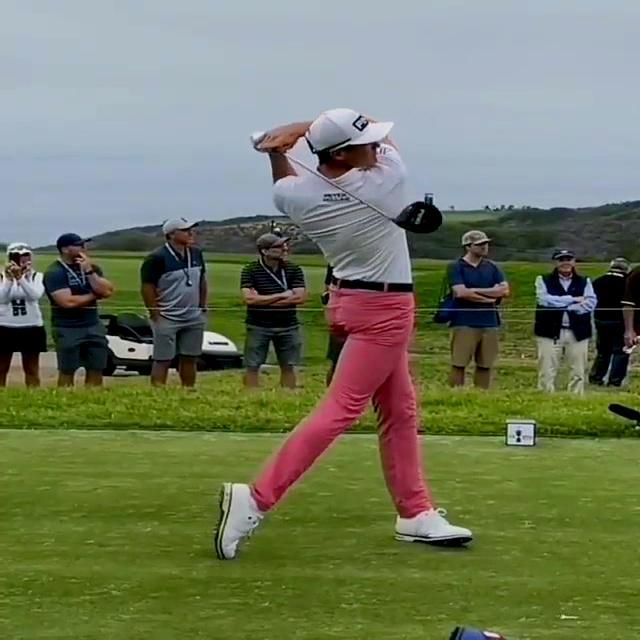golf club-handle: (275, 147, 442, 233)
golf club-head: (398, 200, 441, 232)
